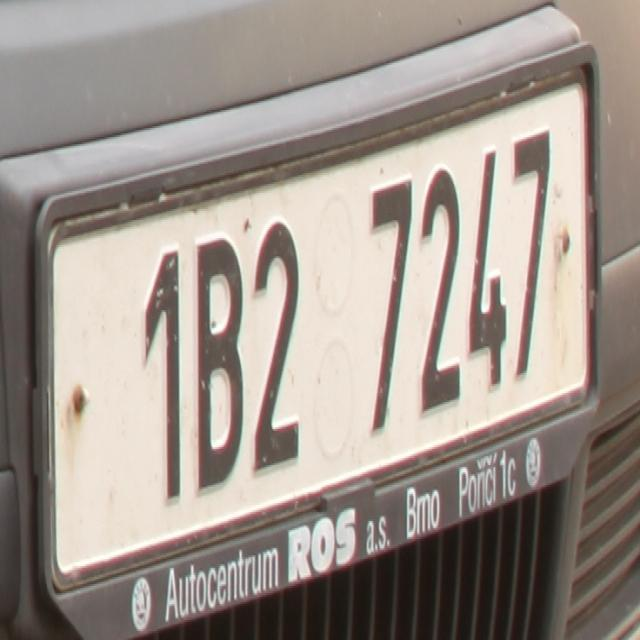1: (141, 242, 181, 499)
2: (251, 216, 300, 478), (422, 162, 460, 416)
4: (469, 148, 508, 392)
7: (370, 168, 414, 434), (512, 130, 550, 390)
B: (194, 232, 244, 494)
